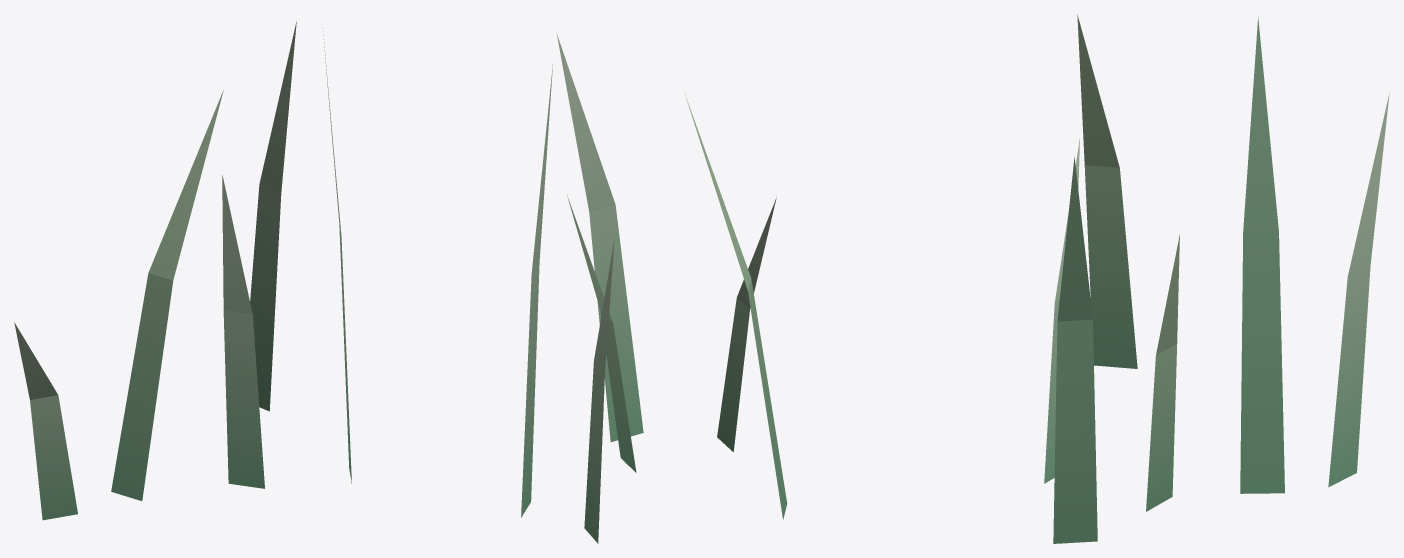
The model's file is grass_tuft.glb.
3 views of the same model, side by side, from view 1: azimuth 30°, elevation 25°; view 2: azimuth 150°, elevation 25°; view 3: azimuth 270°, elevation 25° (orthographic). The views are drawn at different scales.
Visible parts, largest first — view 1: near; view 2: near; view 3: near.
Boxes of the visible parts, x1=… form: near: x1=14, y1=21, x2=351, y2=520; near: x1=521, y1=33, x2=787, y2=543; near: x1=1044, y1=14, x2=1389, y2=543.
Bounding box in the file's own units: 0.3442 × 0.2904 × 0.1851.
